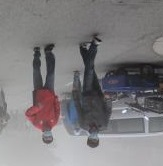person: (72, 36, 113, 149), (25, 44, 61, 144), (62, 69, 85, 135)
